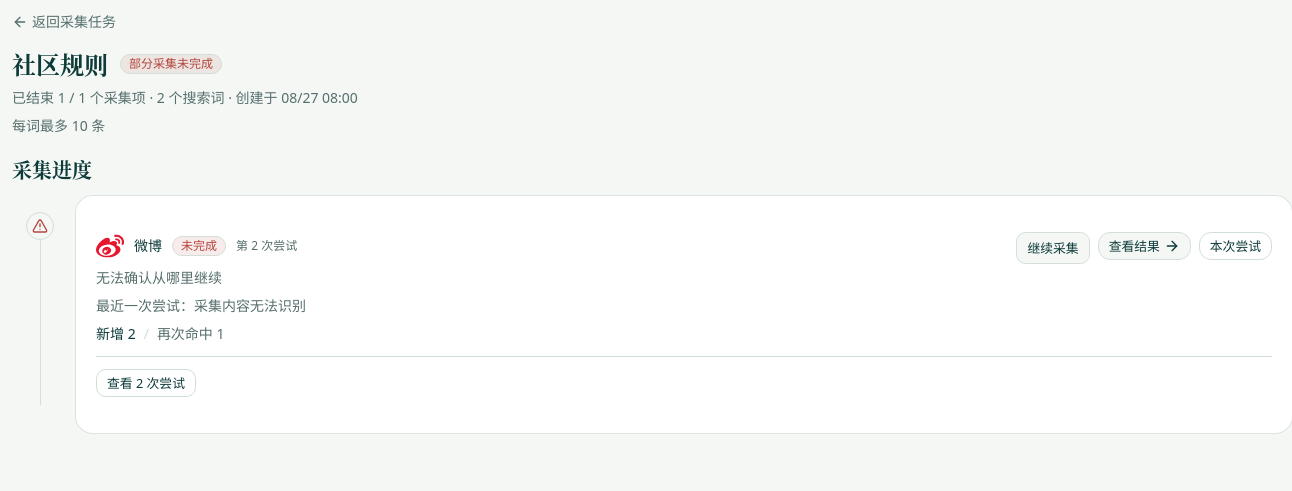
Test: manual batch recovery › offers recovery for an older failed item with a structure_changed attempt without confusing checkpoint trust with eligibility
Click the button "继续采集". click: [1053, 248]
box: left=1016, top=232, right=1090, bottom=264
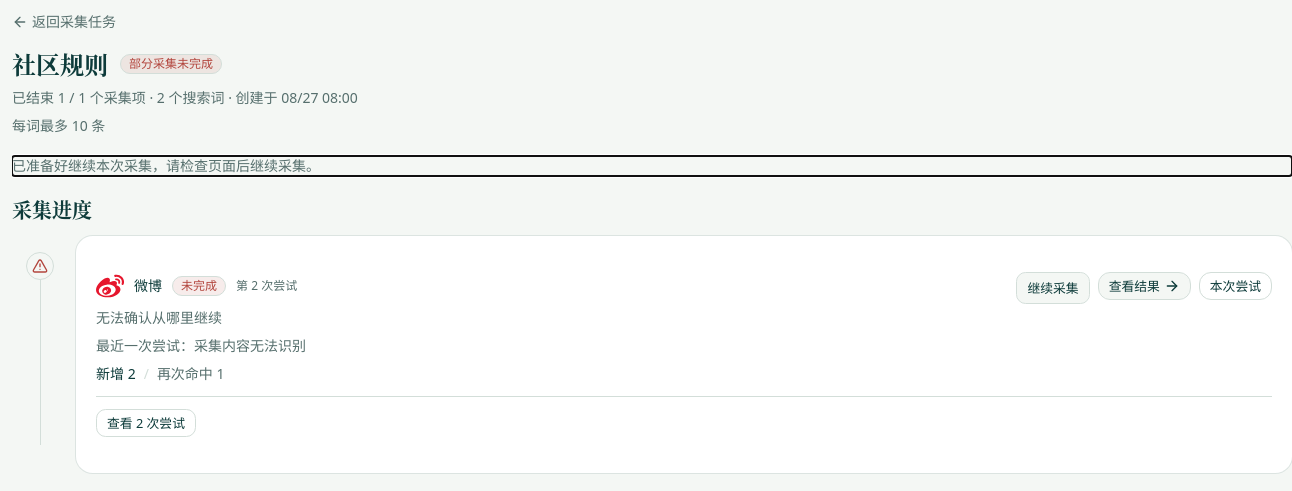
Expected: the text "已准备好继续本次采集，请检查页面后继续采集。" is shown, left=12, top=156, right=320, bottom=175
